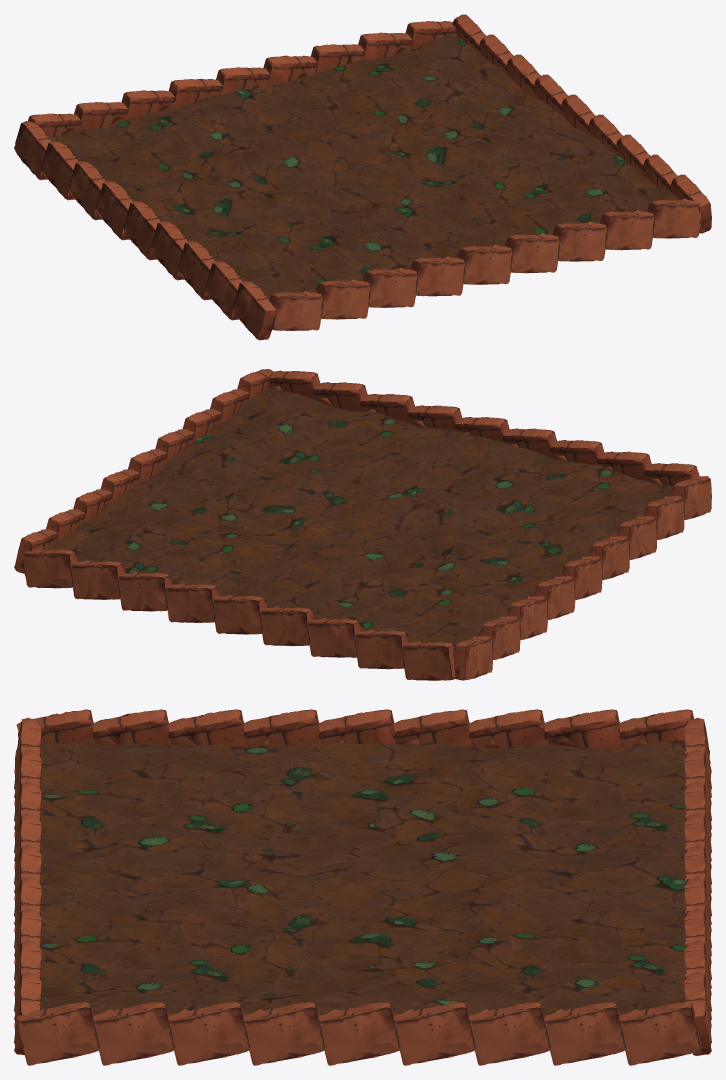
3 renders of one model, top to bottom at view 1: azimuth 30°, elevation 25°; view 2: azimuth 150°, elevation 25°; view 3: azimuth 270°, elevation 25°, orthographic. The views are drawn at different scales.
Visible parts, largest first — view 1: Object_2.001; view 2: Object_2.001; view 3: Object_2.001.
Boxes of the visible parts, x1=… form: Object_2.001: x1=14, y1=14, x2=711, y2=340; Object_2.001: x1=14, y1=369, x2=711, y2=680; Object_2.001: x1=14, y1=709, x2=711, y2=1065.
Size of the model in its own units: 4.23 by 0.3811 by 4.1.
Materials: 2 (2 with a texture image).
